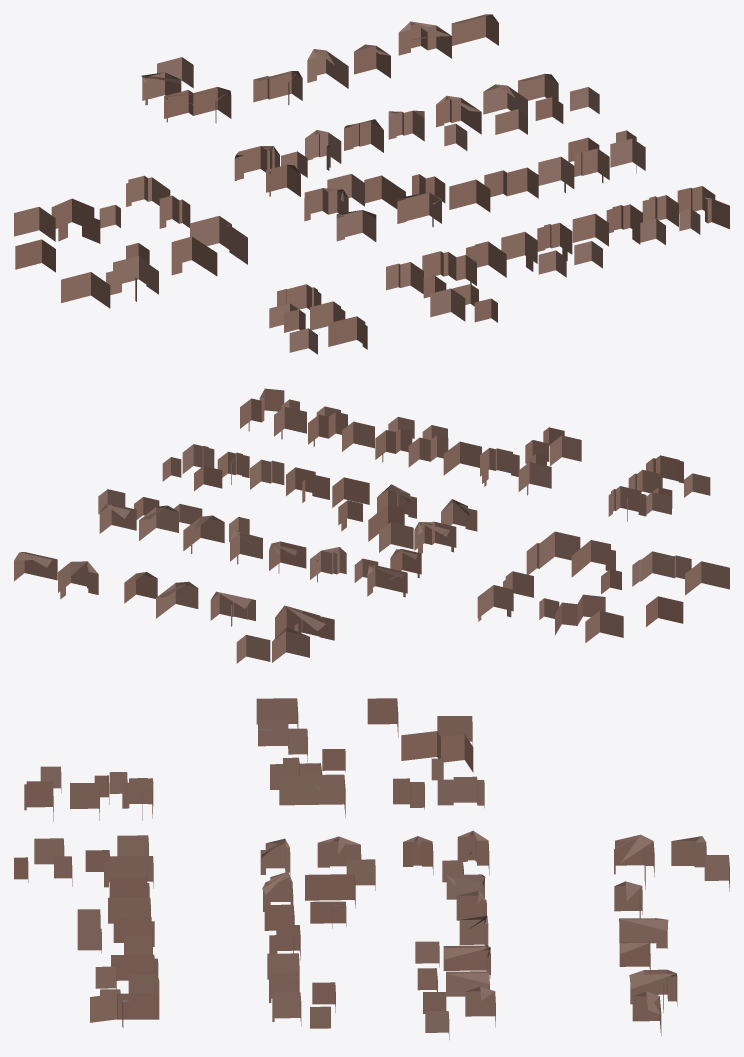
Rendered from c_1646_17830_buildings_residential.glb.
3 views of the same model, one above another, from view 1: azimuth 30°, elevation 25°; view 2: azimuth 150°, elevation 25°; view 3: azimuth 270°, elevation 25° (orthographic). The views are drawn at different scales.
Visible parts, largest first — view 1: geometry_0; view 2: geometry_0; view 3: geometry_0.
Part boxes in pixels (box(x1,y1,x2,y2)): geometry_0: box(14, 14, 729, 354); geometry_0: box(14, 388, 729, 663); geometry_0: box(14, 698, 729, 1039).
Bounding box in the file's own units: 252 × 11.08 × 239.
